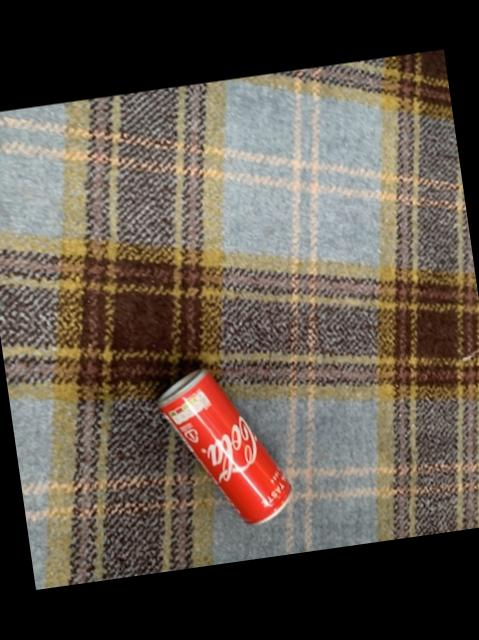metal: (156, 372, 287, 525)
